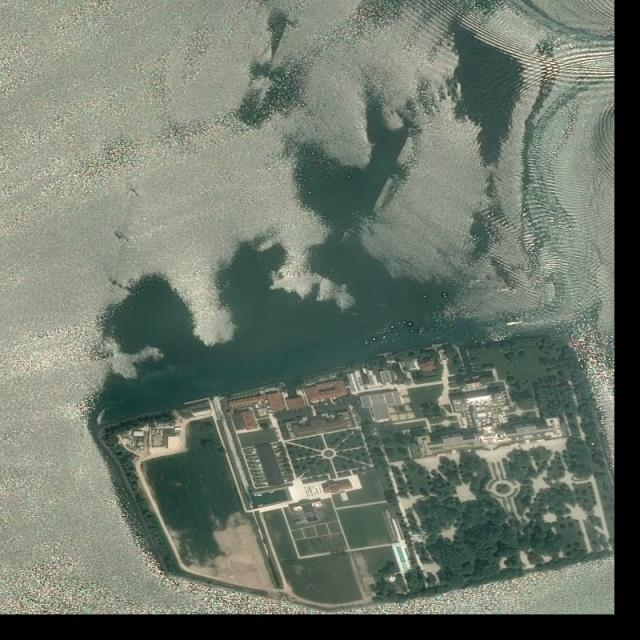ship: (506, 320, 524, 326)
